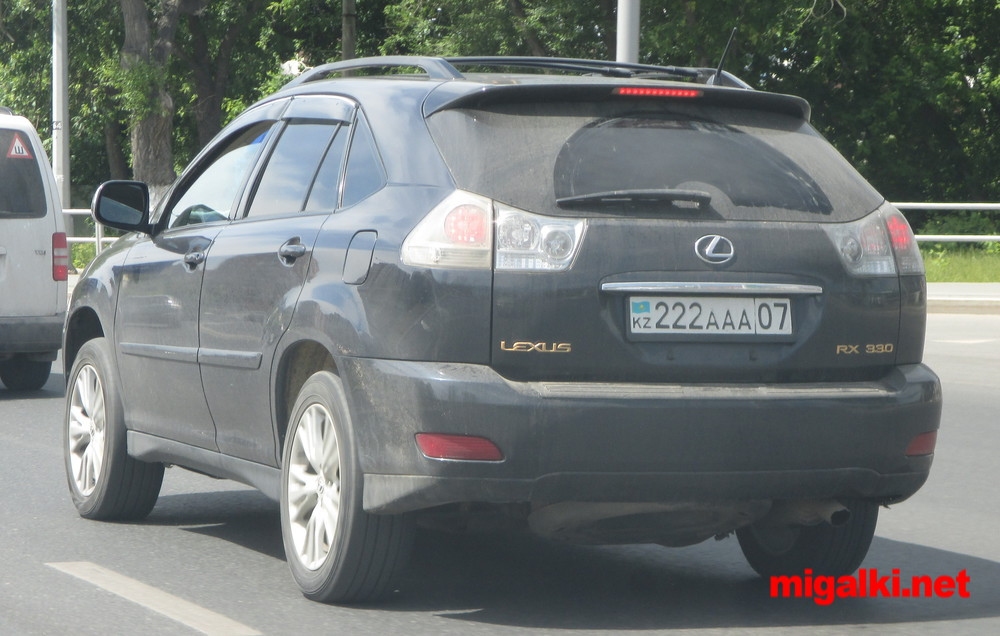license_plate: (629, 297, 791, 336)
